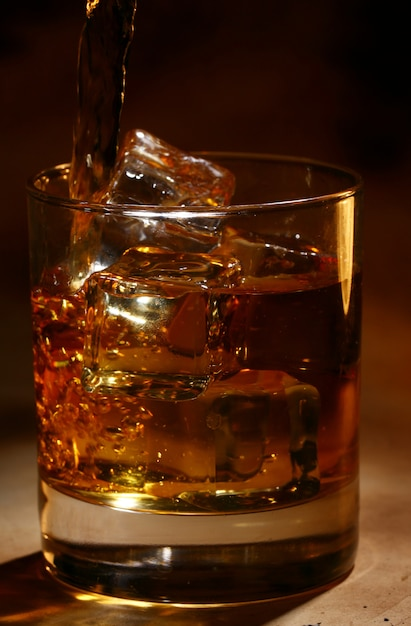alcohol: (28, 130, 364, 610)
